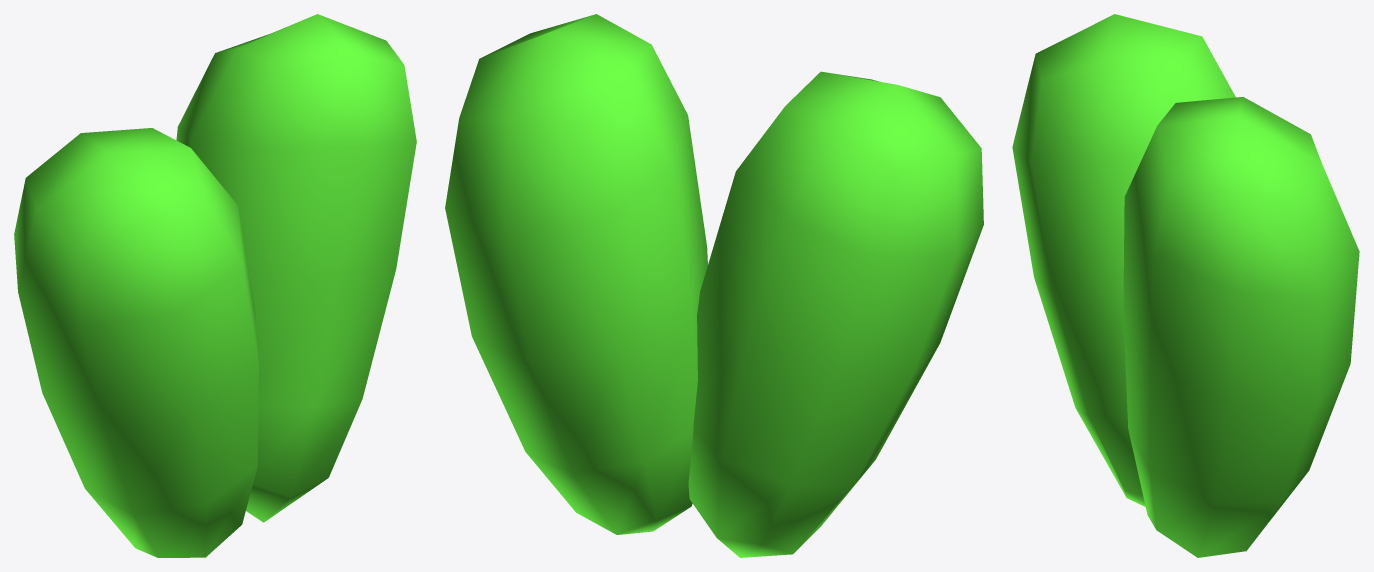
Rendered from dry_grass2.glb.
3 renders of one model, left to right at view 1: azimuth 30°, elevation 25°; view 2: azimuth 150°, elevation 25°; view 3: azimuth 270°, elevation 25°, orthographic. The views are drawn at different scales.
Parts seen in each view (by area): view 1: dry_grass2; view 2: dry_grass2; view 3: dry_grass2.
Boxes of the visible parts, x1,y1,x2,y2 form: dry_grass2: (14,14,416,557); dry_grass2: (445,14,983,557); dry_grass2: (1012,14,1359,557).
Bounding box in the file's own units: 1.22 × 1.31 × 0.8511.
